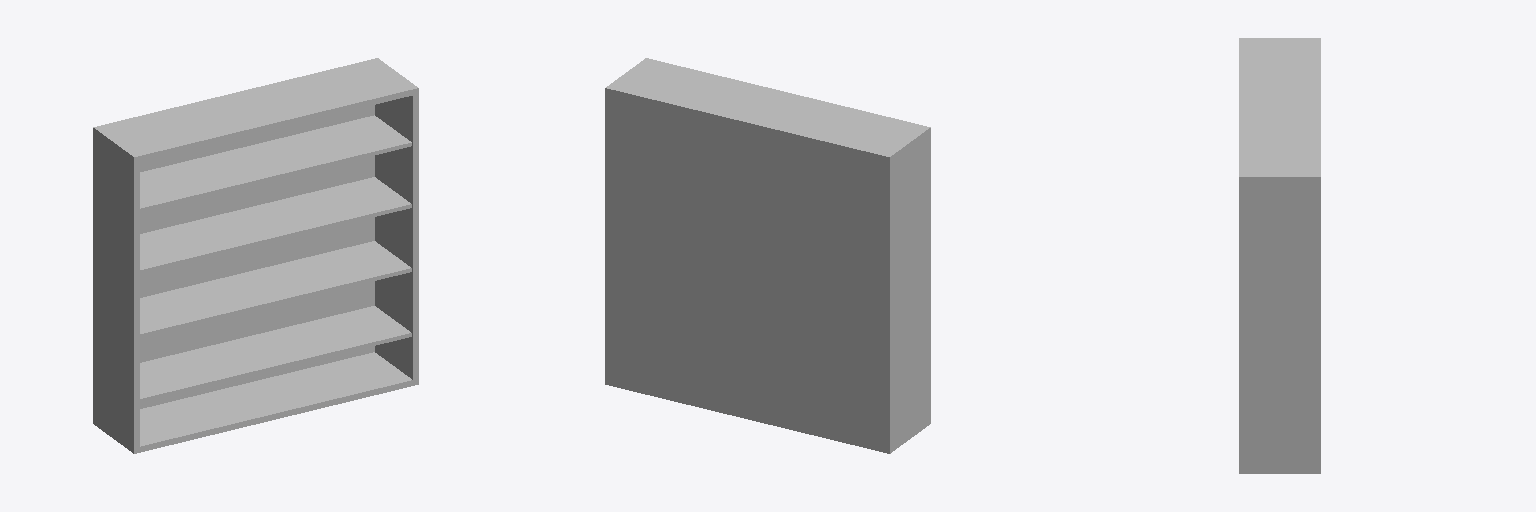
File: cupboard_1.obj
3 renders of one model, left to right at view 1: azimuth 30°, elevation 25°; view 2: azimuth 150°, elevation 25°; view 3: azimuth 270°, elevation 25°, orthographic.
Visible parts, largest first — view 1: Plane_Plane.001; view 2: Plane_Plane.001; view 3: Plane_Plane.001.
Boxes of the visible parts, x1=… form: Plane_Plane.001: x1=93, y1=58, x2=418, y2=453; Plane_Plane.001: x1=605, y1=58, x2=930, y2=453; Plane_Plane.001: x1=1239, y1=38, x2=1320, y2=473.
Size of the model in its own units: 8 by 7.97 by 2.